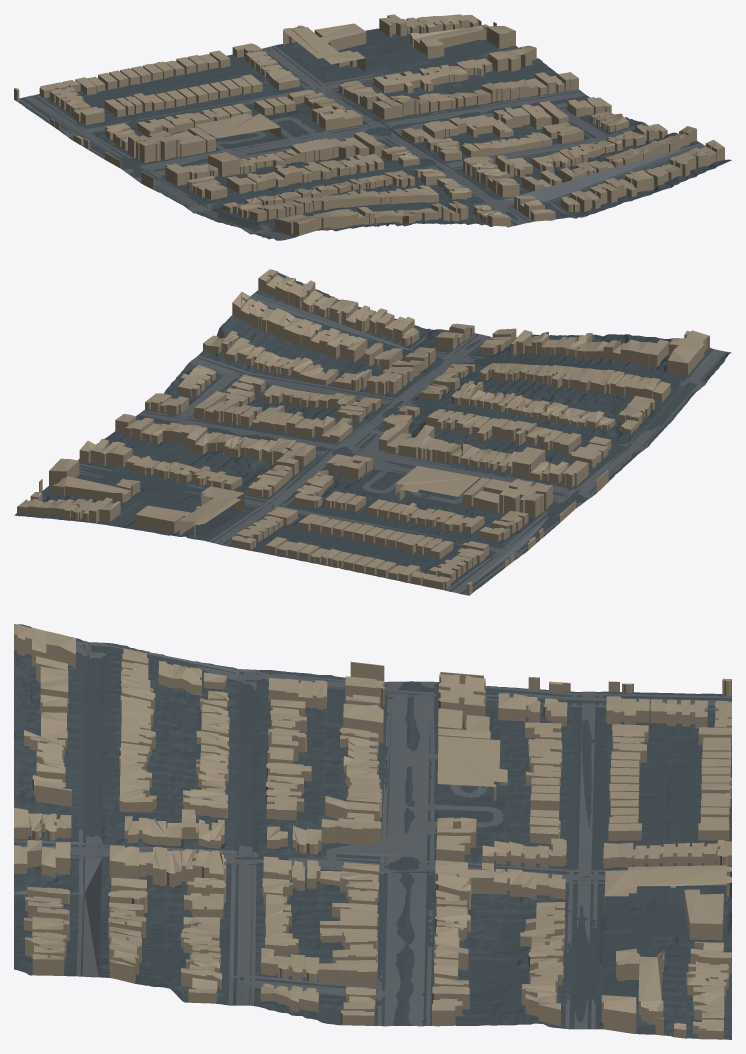
Rendered from epsg26910-1428-10875.lod0.glb.
The picture shows the model from 3 angles, top to bottom: view 1: azimuth 30°, elevation 25°; view 2: azimuth 150°, elevation 25°; view 3: azimuth 270°, elevation 25°; orthographic projection. The views are drawn at different scales.
Parts seen in each view (by area): view 1: epsg26910-1428-10875-lod0; view 2: epsg26910-1428-10875-lod0; view 3: epsg26910-1428-10875-lod0.
Part boxes in pixels (left/top/right/bottom): epsg26910-1428-10875-lod0: left=14, top=14, right=731, bottom=240; epsg26910-1428-10875-lod0: left=14, top=269, right=731, bottom=595; epsg26910-1428-10875-lod0: left=14, top=624, right=731, bottom=1039.
Bounding box in the file's own units: 384 × 76.01 × 384.
